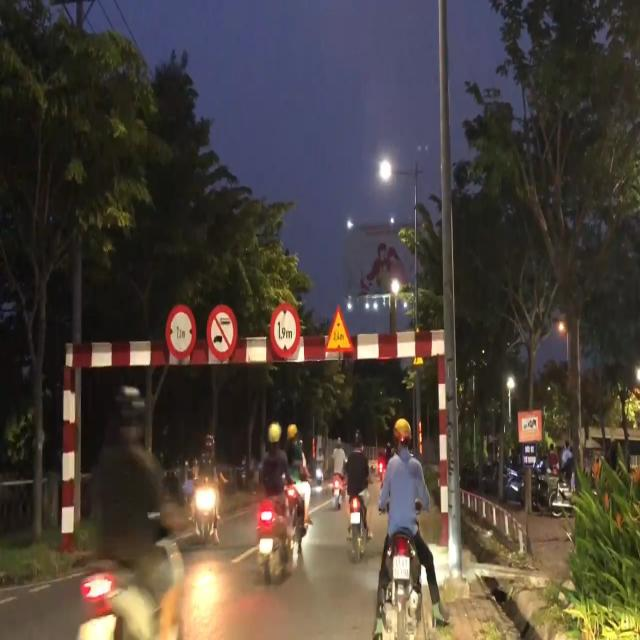Bien bao cam xe oto khach va xe oto tai: (204, 300, 238, 365)
Bien bao chieu cao tinh khong thuc te: (322, 301, 352, 355)
Bien bao han che chieu cao: (268, 300, 304, 365)
